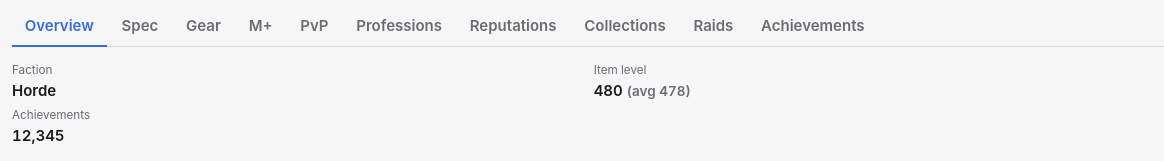
CharacterDetail › shows an error when specializations fail to load
This screenshot has width=1164, height=161.
Click the tab "Spec" at (140, 27), box [109,8,171,47]
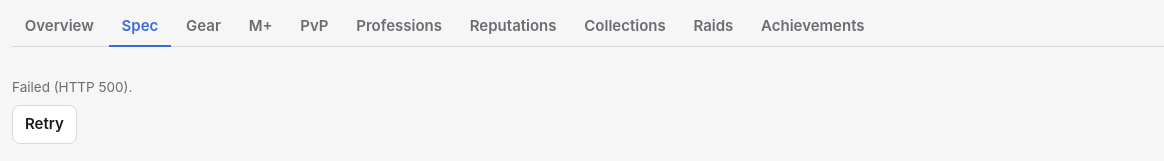
Result: the text "Failed (HTTP 500)." is shown at [12,77,132,97]
